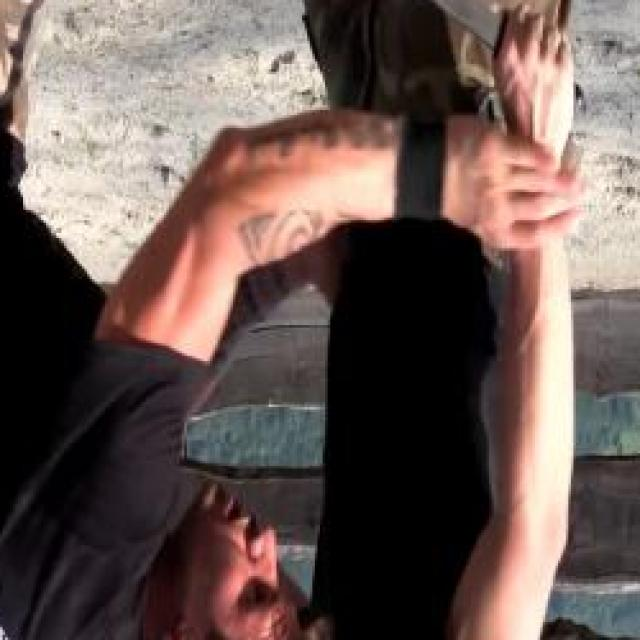knife: (381, 0, 589, 123)
